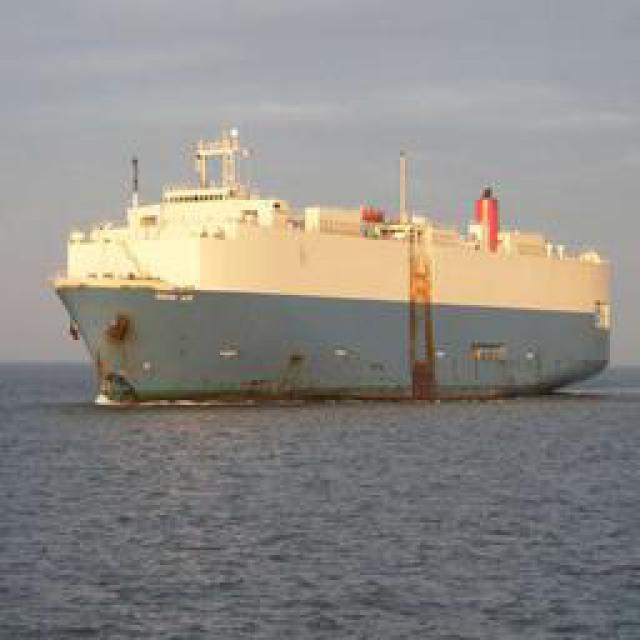Ship: (53, 168, 618, 403)
